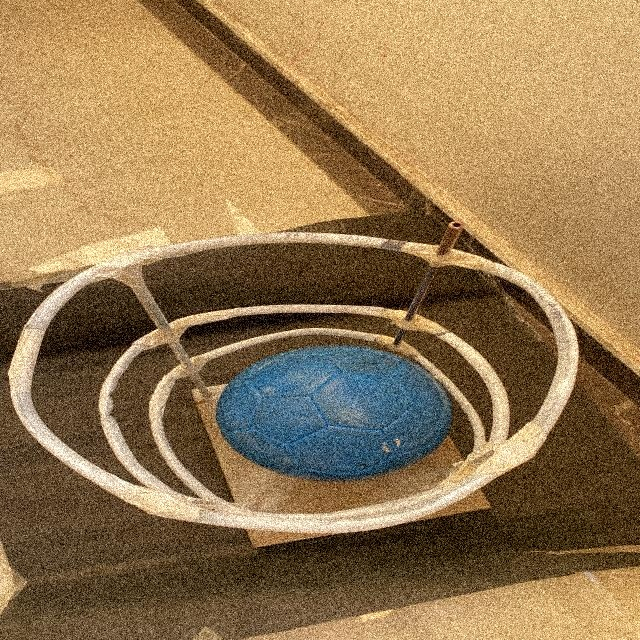blue_ball: (222, 347, 446, 476)
silo: (13, 229, 581, 542)
